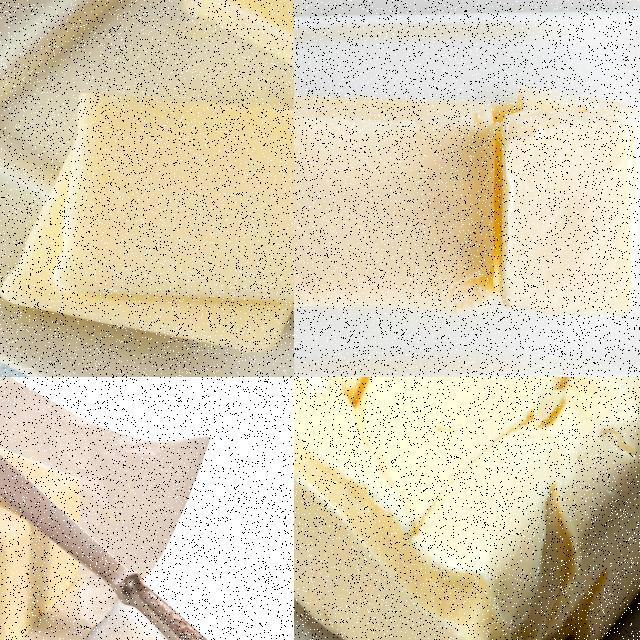Butter: (294, 377, 639, 639), (294, 92, 639, 318), (0, 90, 293, 355), (0, 397, 87, 639)
